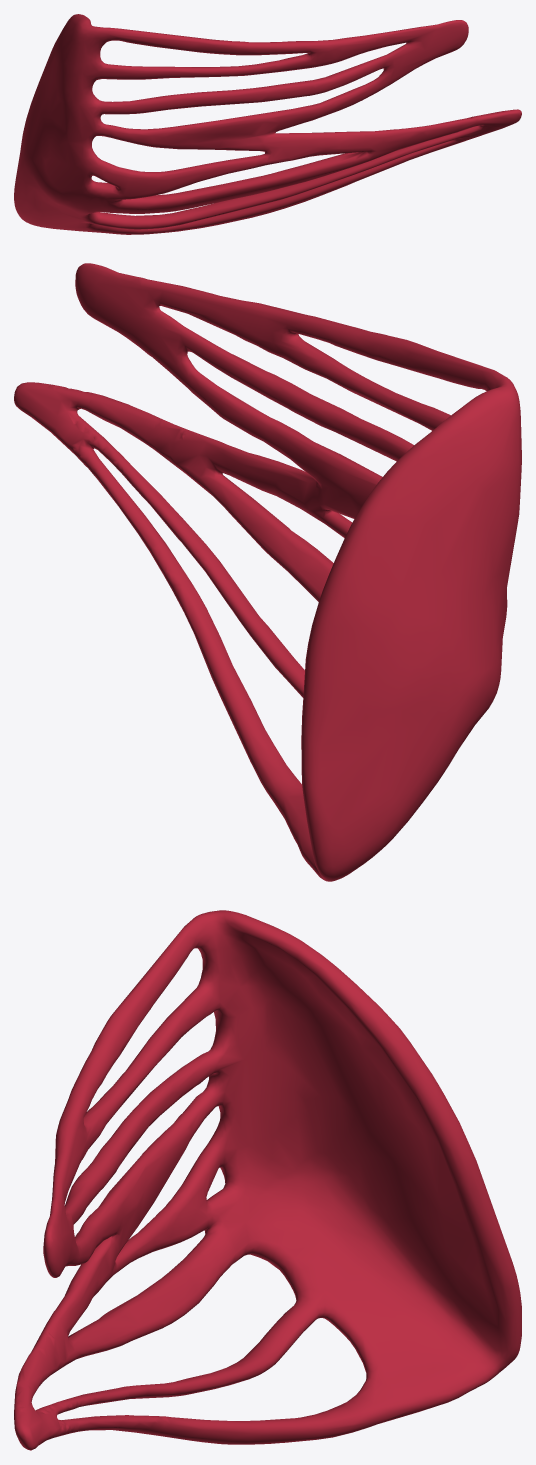
File: septal-leaflet-of-right-atrioventricular-valve.glb
The picture shows the model from 3 angles, top to bottom: view 1: azimuth 30°, elevation 25°; view 2: azimuth 150°, elevation 25°; view 3: azimuth 270°, elevation 25°; orthographic projection. The views are drawn at different scales.
Parts seen in each view (by area): view 1: Septal leaflet of right atrioventricular valve; view 2: Septal leaflet of right atrioventricular valve; view 3: Septal leaflet of right atrioventricular valve.
Part boxes in pixels (x1,y1,x2,y2): Septal leaflet of right atrioventricular valve: [14, 14, 521, 234]; Septal leaflet of right atrioventricular valve: [14, 263, 521, 881]; Septal leaflet of right atrioventricular valve: [14, 910, 521, 1450].
Bounding box in the file's own units: 0.0372 × 0.0241 × 0.025.
